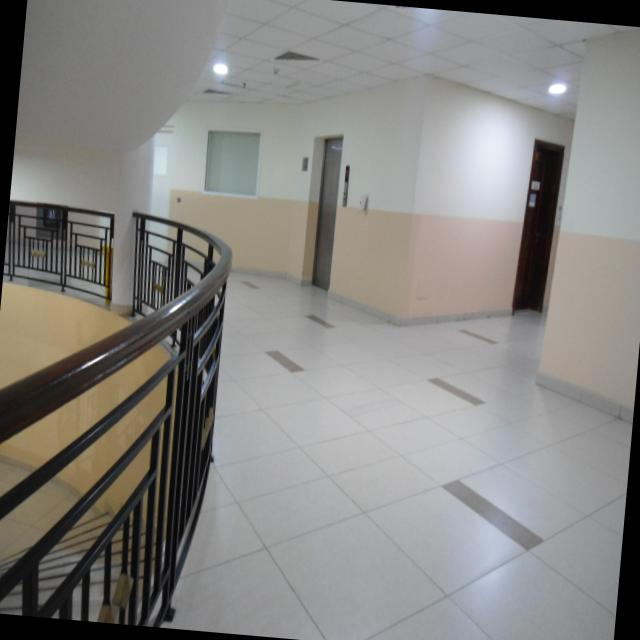door: (506, 134, 570, 318)
lift: (296, 124, 356, 300)
pillar: (104, 128, 151, 314)
railing: (0, 195, 238, 630), (1, 187, 120, 308)
wall: (168, 53, 428, 332), (533, 34, 640, 422), (405, 86, 570, 336)
